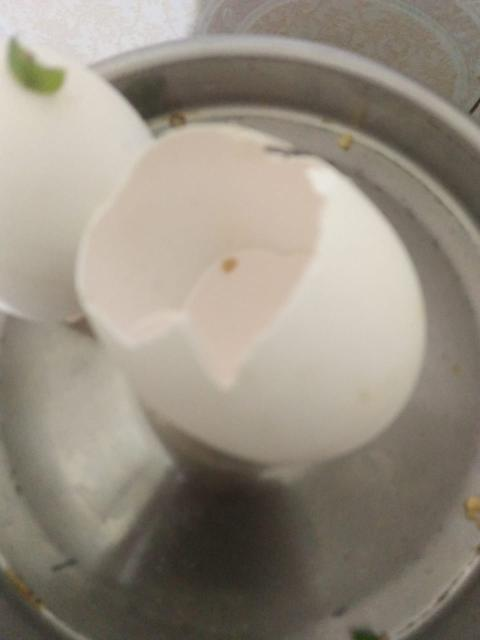Roto: (74, 123, 430, 467)
